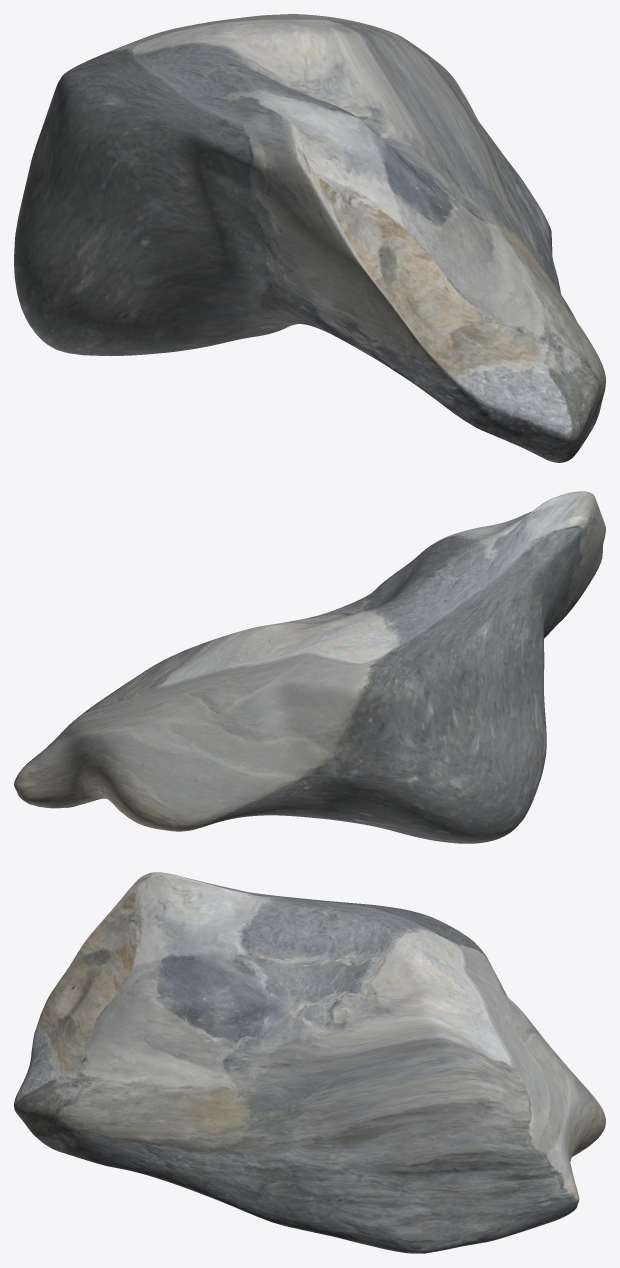
The model's file is GrayRock2.fbx.
3 renders of one model, top to bottom at view 1: azimuth 30°, elevation 25°; view 2: azimuth 150°, elevation 25°; view 3: azimuth 270°, elevation 25°, orthographic. The views are drawn at different scales.
Parts seen in each view (by area): view 1: Mesh_0.006; view 2: Mesh_0.006; view 3: Mesh_0.006.
Part boxes in pixels (bbox=[...]): Mesh_0.006: bbox=[14, 14, 605, 462]; Mesh_0.006: bbox=[14, 491, 605, 843]; Mesh_0.006: bbox=[14, 872, 605, 1253].
Size of the model in its own units: 155 by 94.36 by 211.
Materials: 1 (1 with a texture image).
